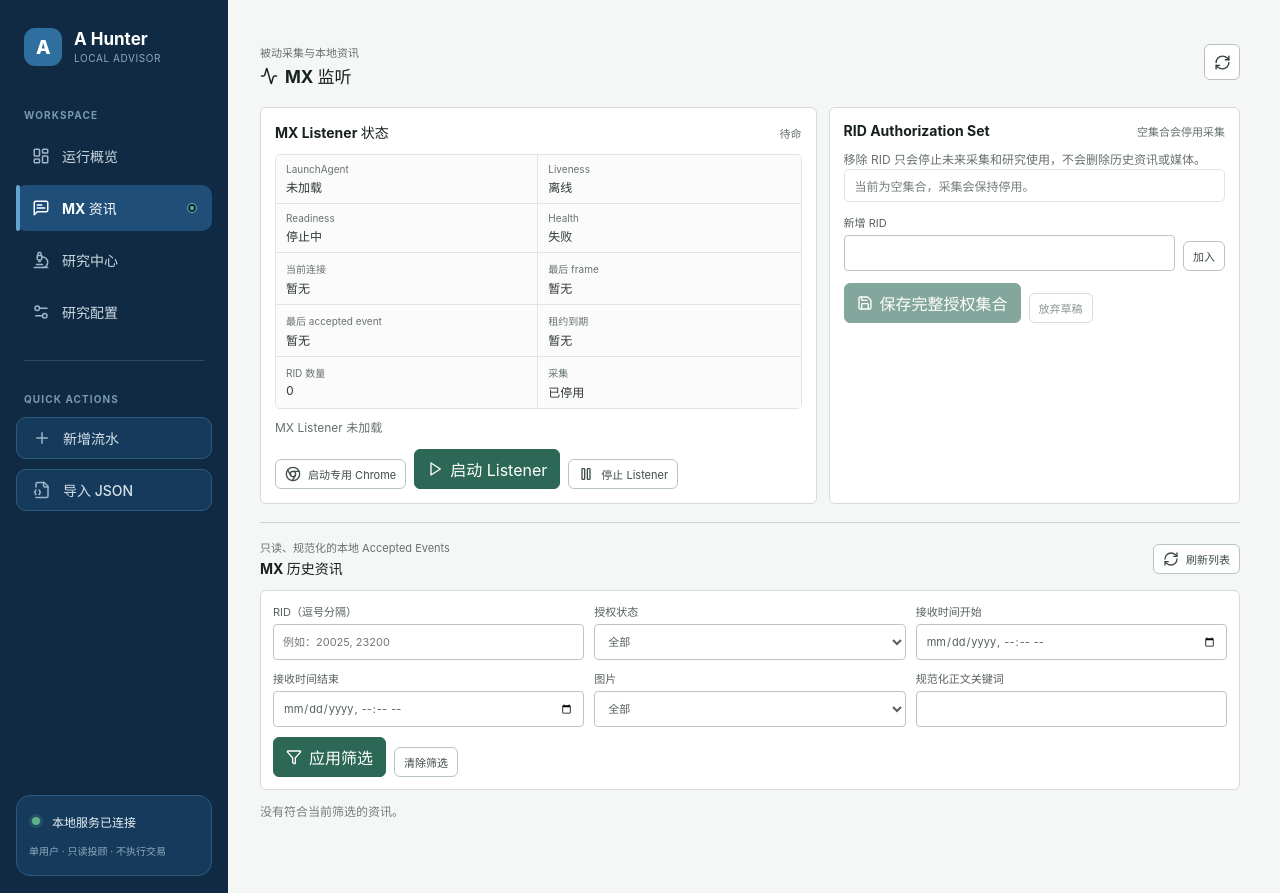
it: top-level navigation › opens MX directly and switches to research without loading overview state
Expected: the heading "MX 历史资讯" is shown, [260,560,343,577]
Step 1. Click the link "研究配置" → click(75, 312), box [32,303,118,321]
(page scrolled)
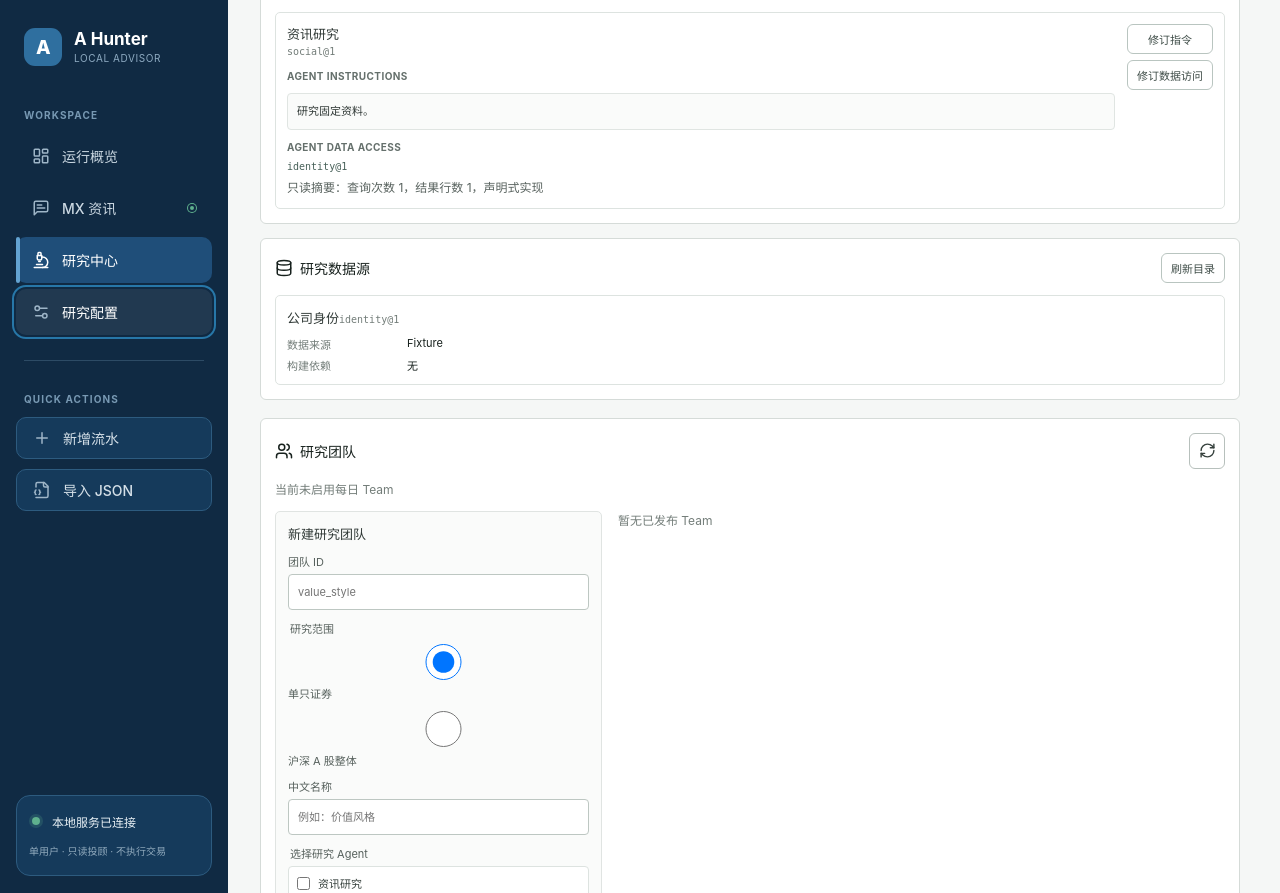
Expected: the heading "研究数据源" is shown, [275,258,370,278]
Expected: the heading "研究团队" is shown, [275,440,356,460]
